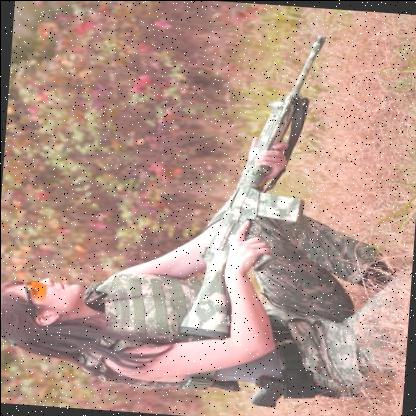rifle: (169, 25, 346, 343), (244, 375, 338, 413)
